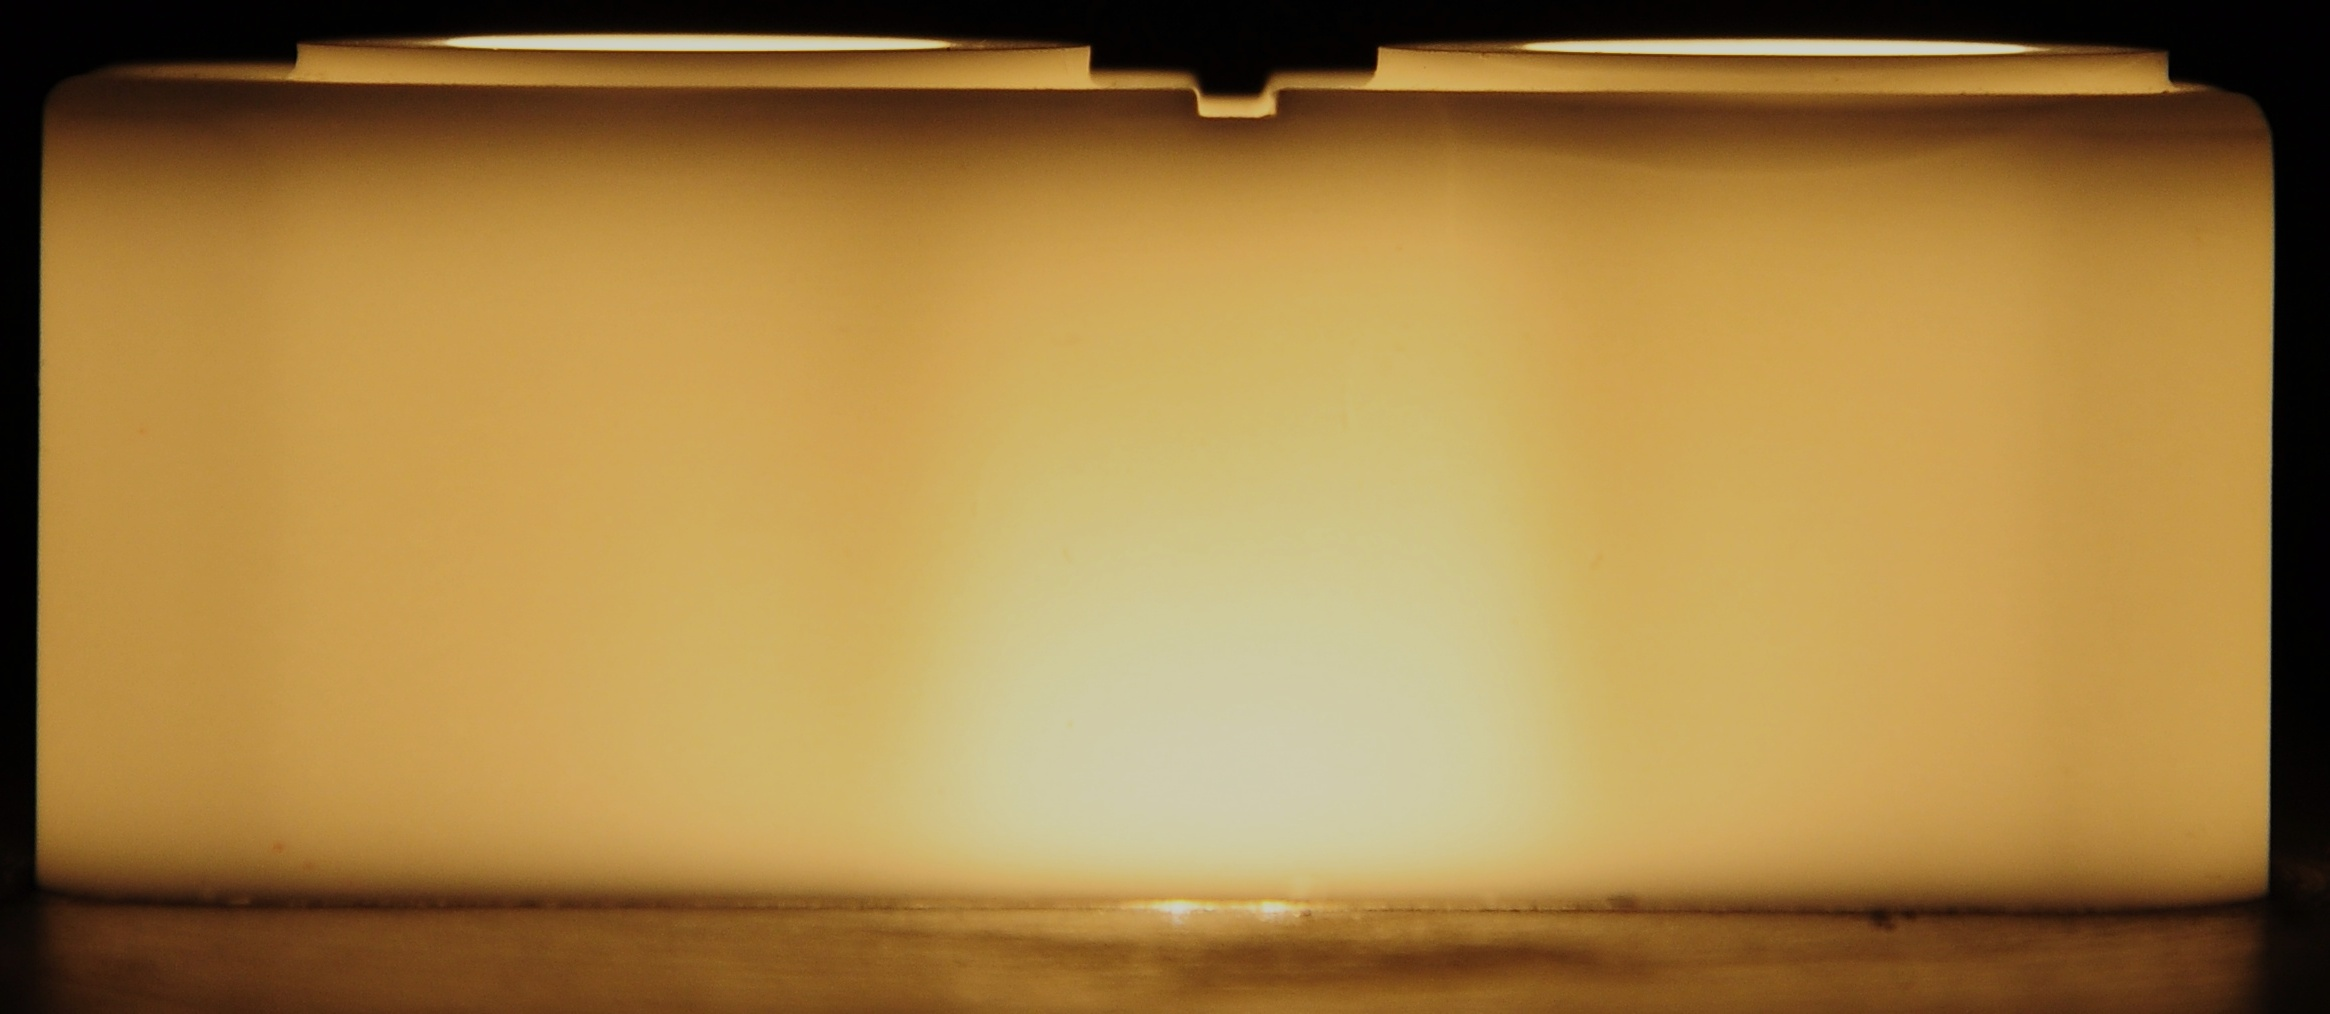flaw: (1430, 95, 2042, 208)
